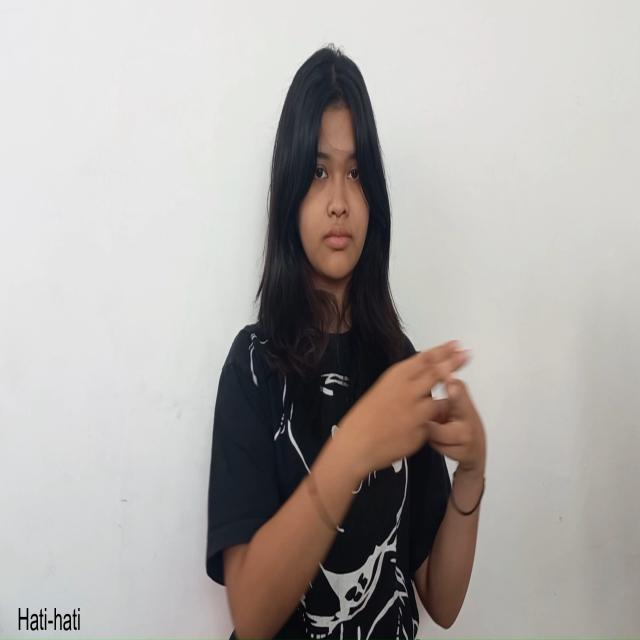Hati-hati -BISINDO-: (355, 338, 487, 478)
